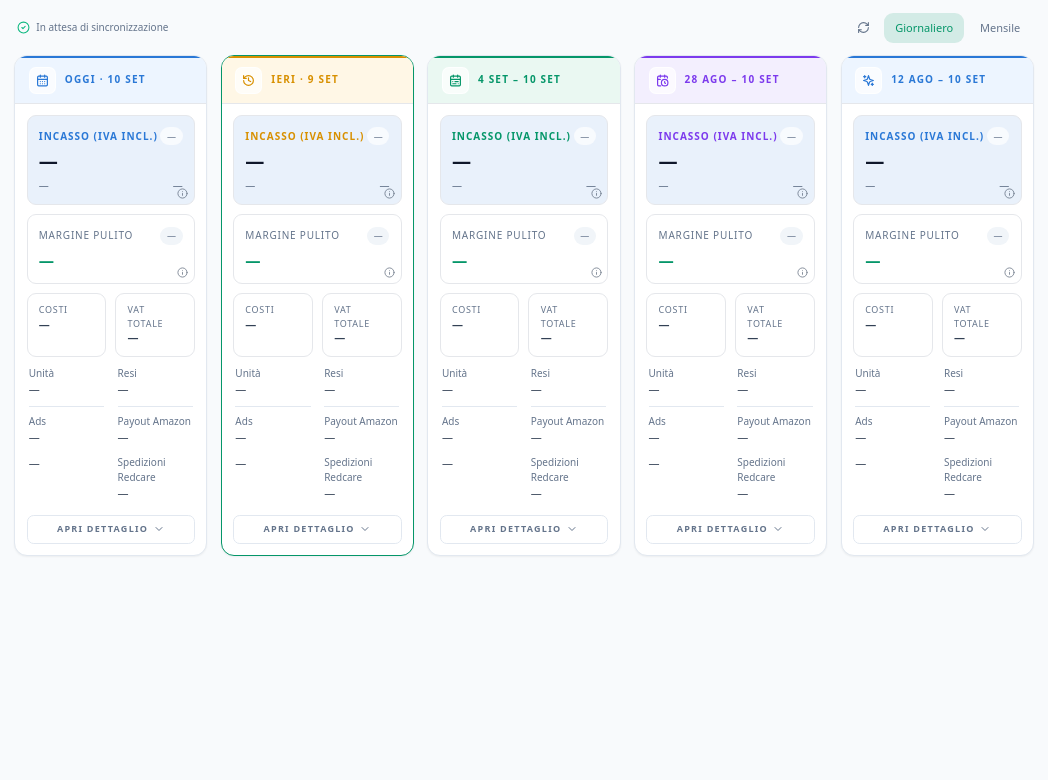
it: PeriodTiles › monthly set — Proiezione mese (forecast) and always-on per-tile comparison › always shows a comparison badge on Oggi vs Ieri in the monthly set, even when compareMode is 'none'
Click the button "Mensile". click: {"x": 1000, "y": 28}
box: [969, 13, 1032, 43]
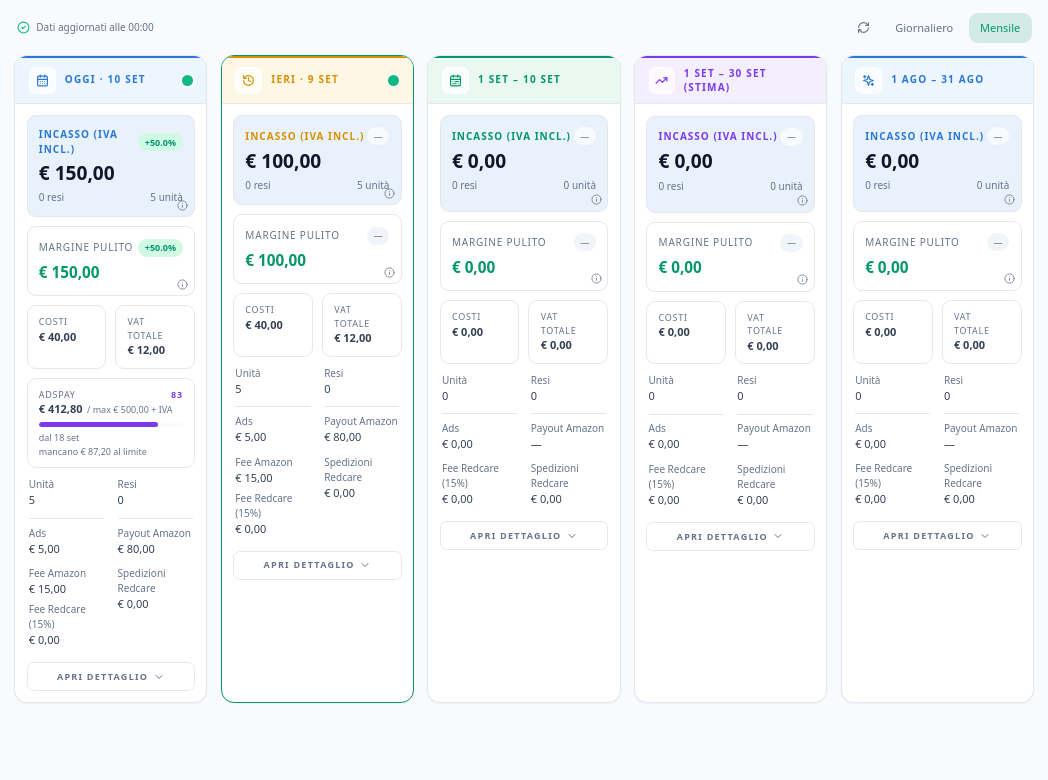
Check: the button with aria-label "mese in corso" is shown, box [427, 55, 620, 703]
Check: the 1st text "+50.0%" is shown, box [138, 133, 183, 151]
